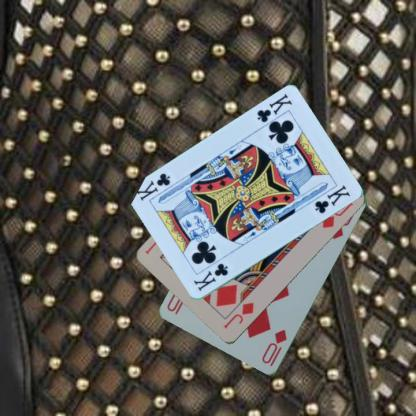10d: (259, 327, 288, 368)
Jd: (220, 300, 256, 330)
Kc: (254, 92, 294, 124), (191, 261, 229, 293)
